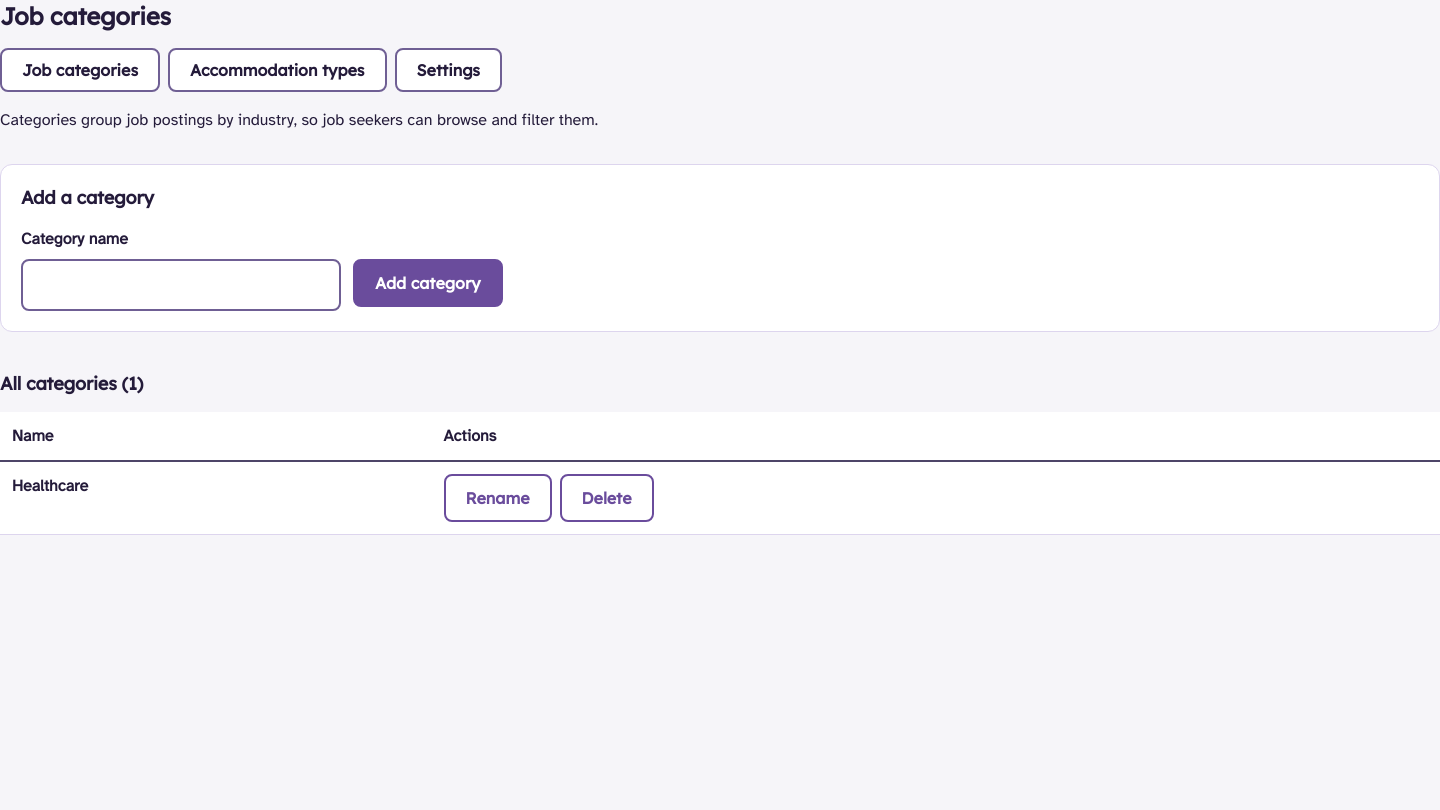
Test: CategoriesPage › explains why a category in use cannot be deleted
The width and height of the screenshot is (1440, 810).
Click the button with aria-label "Delete Healthcare": point(606, 498) x1=560 y1=474 x2=654 y2=522
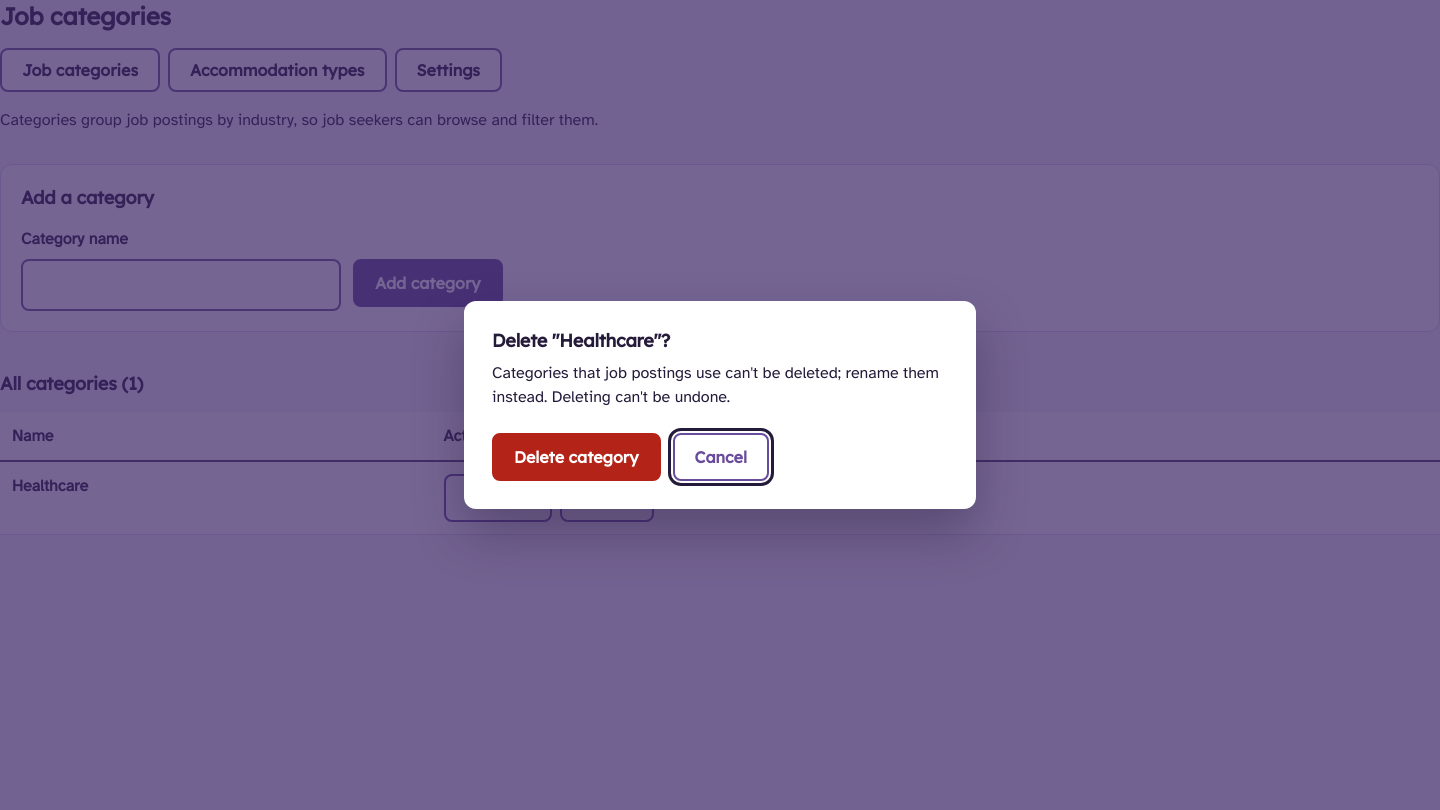
Click the button "Delete category": point(576, 457) x1=492 y1=433 x2=660 y2=481
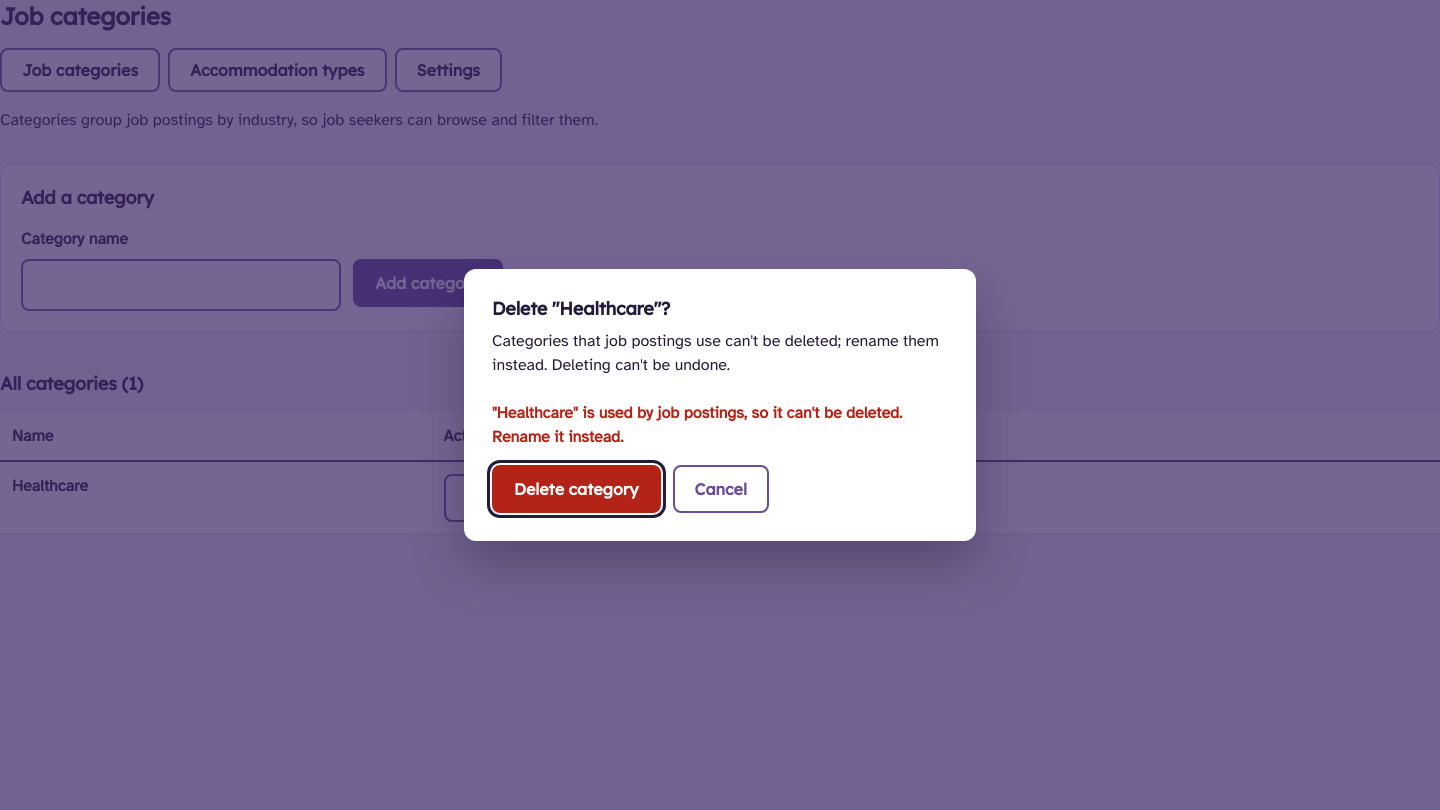
expect the text "Healthcare" is shown: met, box x1=0 y1=461 x2=432 y2=534
expect the message shows "is used by job postings": met, box x1=492 y1=403 x2=902 y2=447
